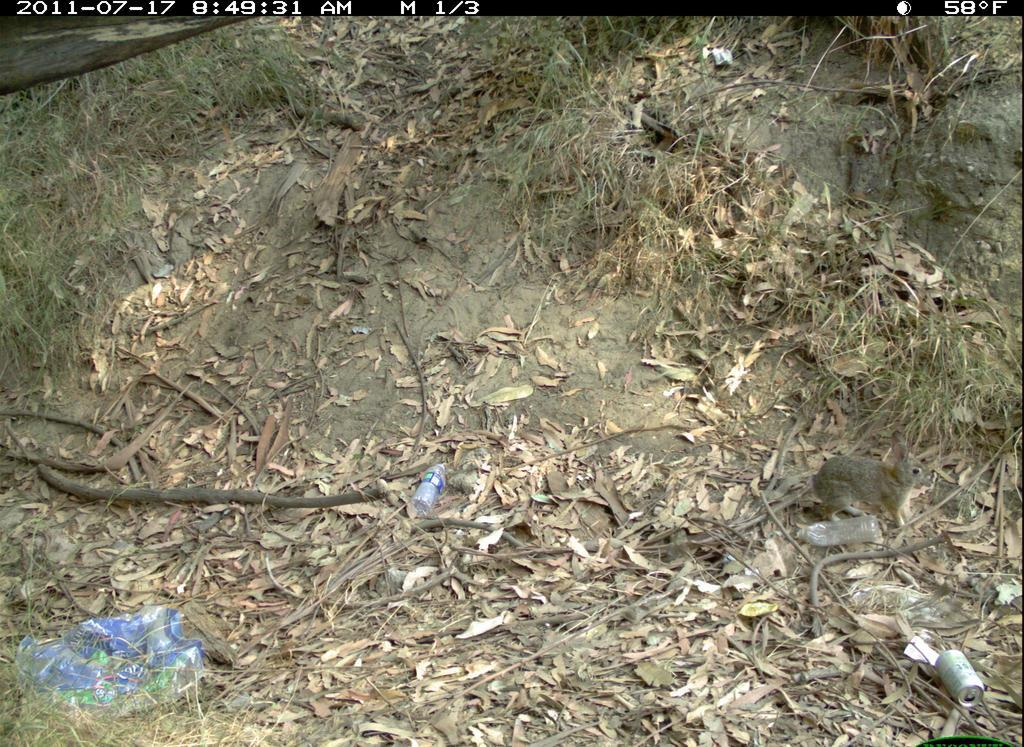rabbit: (799, 423, 943, 545)
